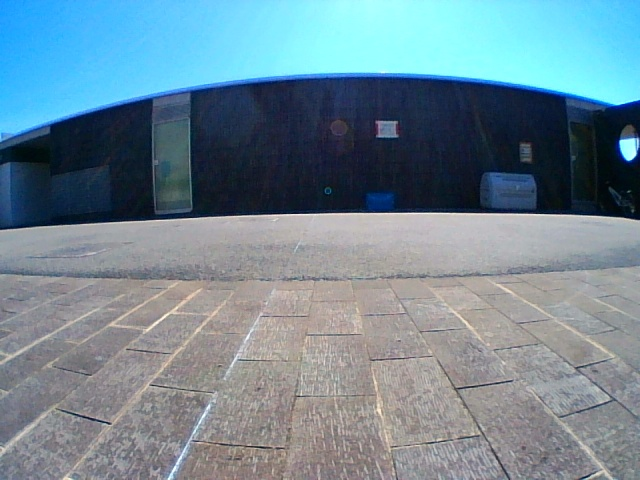blue_box: (367, 193, 392, 212)
